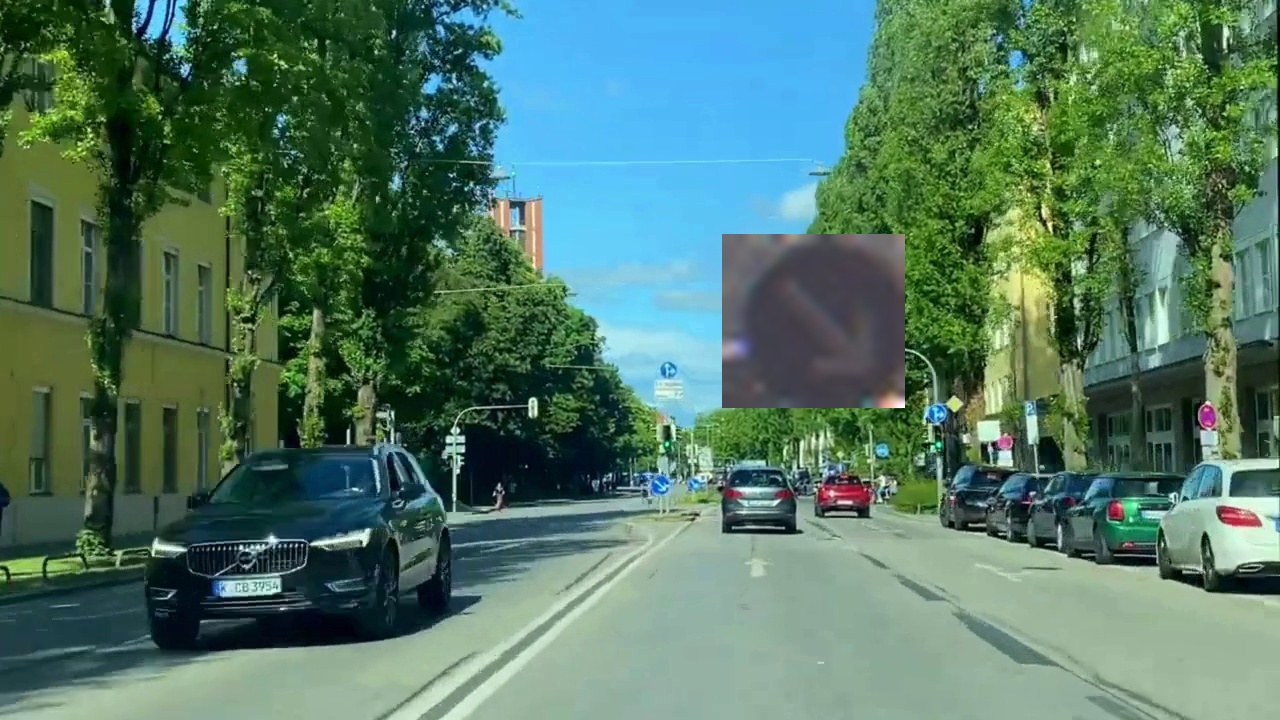Keep right: (722, 234, 905, 408)
